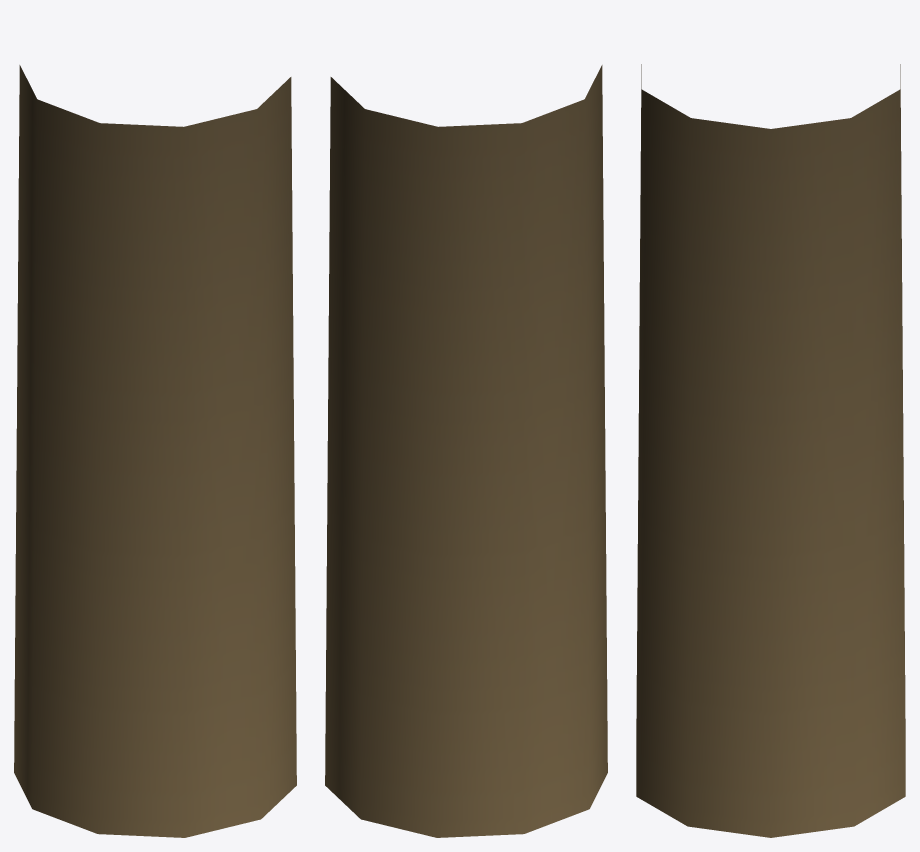
The model's file is LGT_Sconce.glb.
The picture shows the model from 3 angles, left to right: view 1: azimuth 30°, elevation 25°; view 2: azimuth 150°, elevation 25°; view 3: azimuth 270°, elevation 25°; orthographic projection.
Parts seen in each view (by area): view 1: LGT_Sconce; view 2: LGT_Sconce; view 3: LGT_Sconce.
Part boxes in pixels (<box>): LGT_Sconce: <box>14,65,296,837</box>; LGT_Sconce: <box>325,65,607,837</box>; LGT_Sconce: <box>636,64,905,837</box>.
Bounding box in the file's own units: 0.2 × 0.55 × 0.1902.
1 material, 1 textured.
